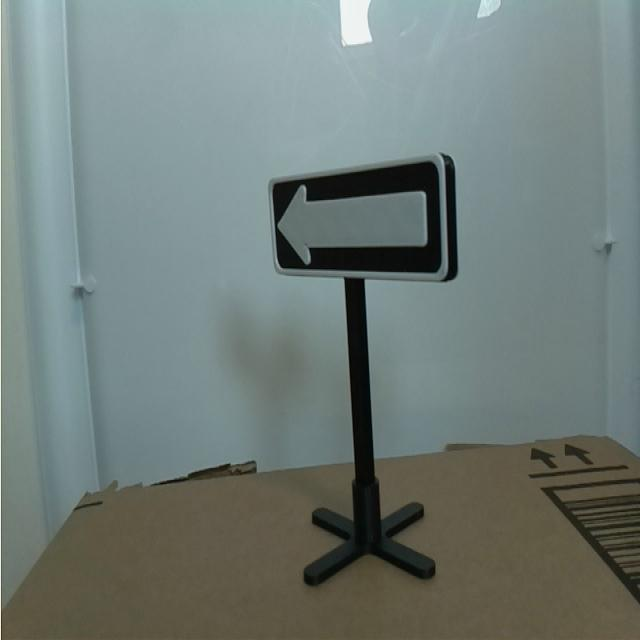sign_oneway_left: (259, 145, 463, 310)
